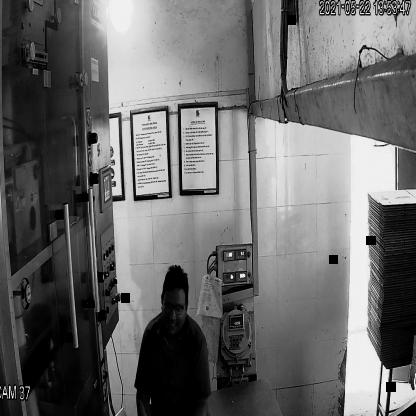goggles: (160, 290, 188, 319)
